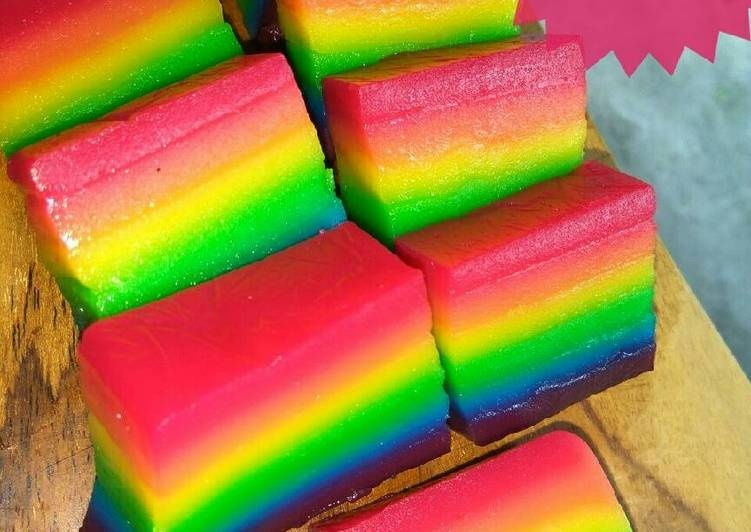kue_lapis_pelangi: (76, 220, 449, 531), (9, 53, 348, 327), (397, 161, 655, 447), (321, 38, 586, 253)
